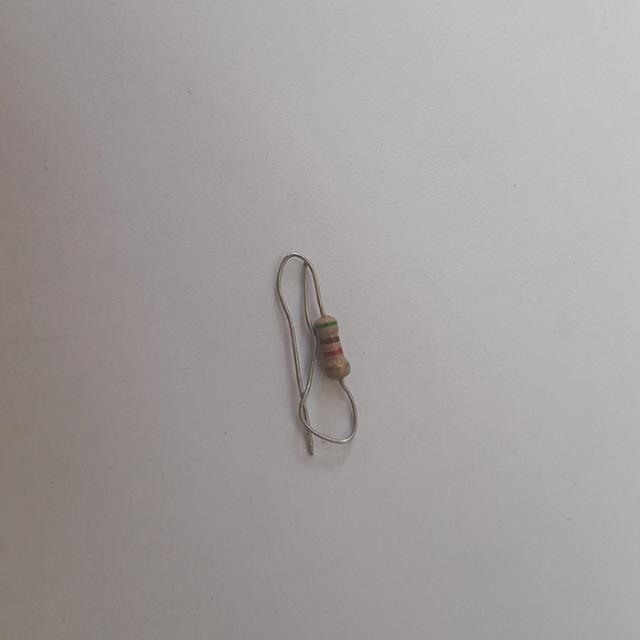brown: (322, 336, 341, 344)
gold: (325, 362, 347, 371)
green: (316, 322, 339, 329)
red: (324, 348, 342, 357)
resistor: (309, 313, 360, 382)
